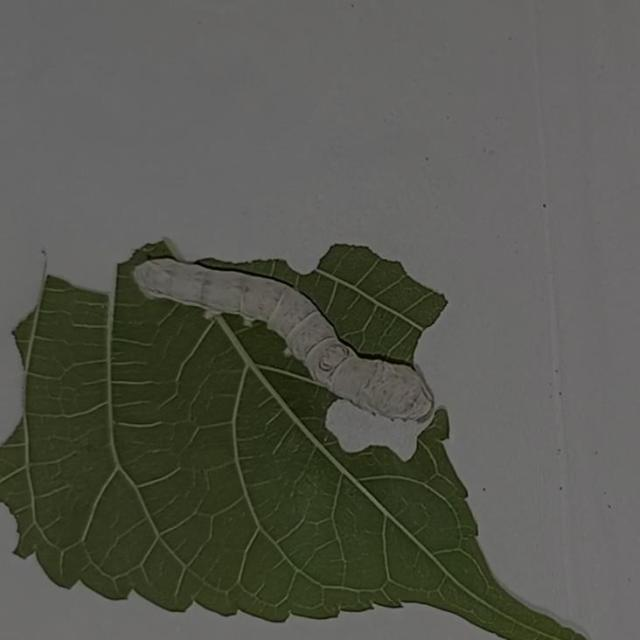Healthy: (120, 234, 456, 441)
